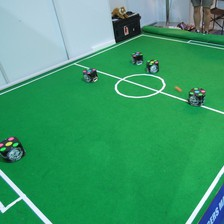ball: (174, 84, 181, 91)
robot: (1, 135, 27, 164), (186, 86, 208, 108), (80, 64, 100, 83), (129, 49, 144, 66), (145, 57, 160, 73)
